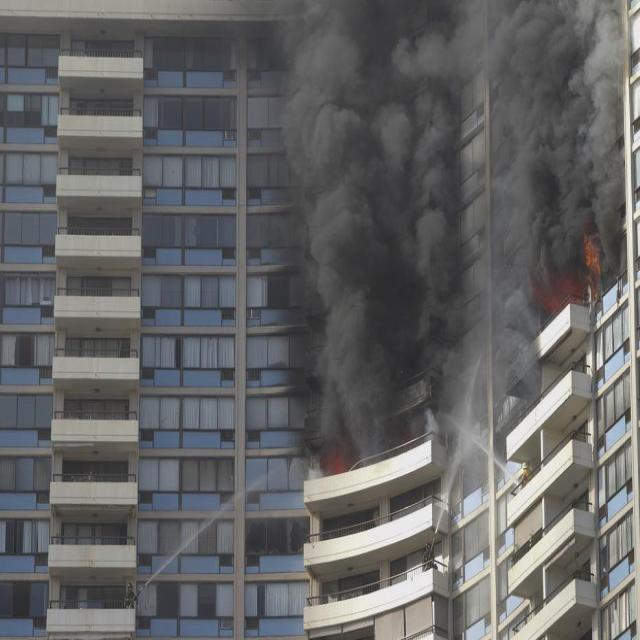Fire: (582, 229, 598, 273)
